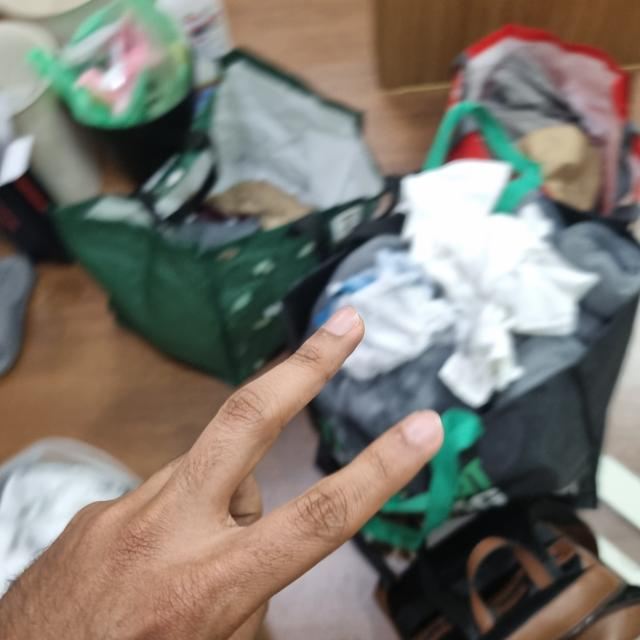Scissors: (0, 312, 445, 639)
